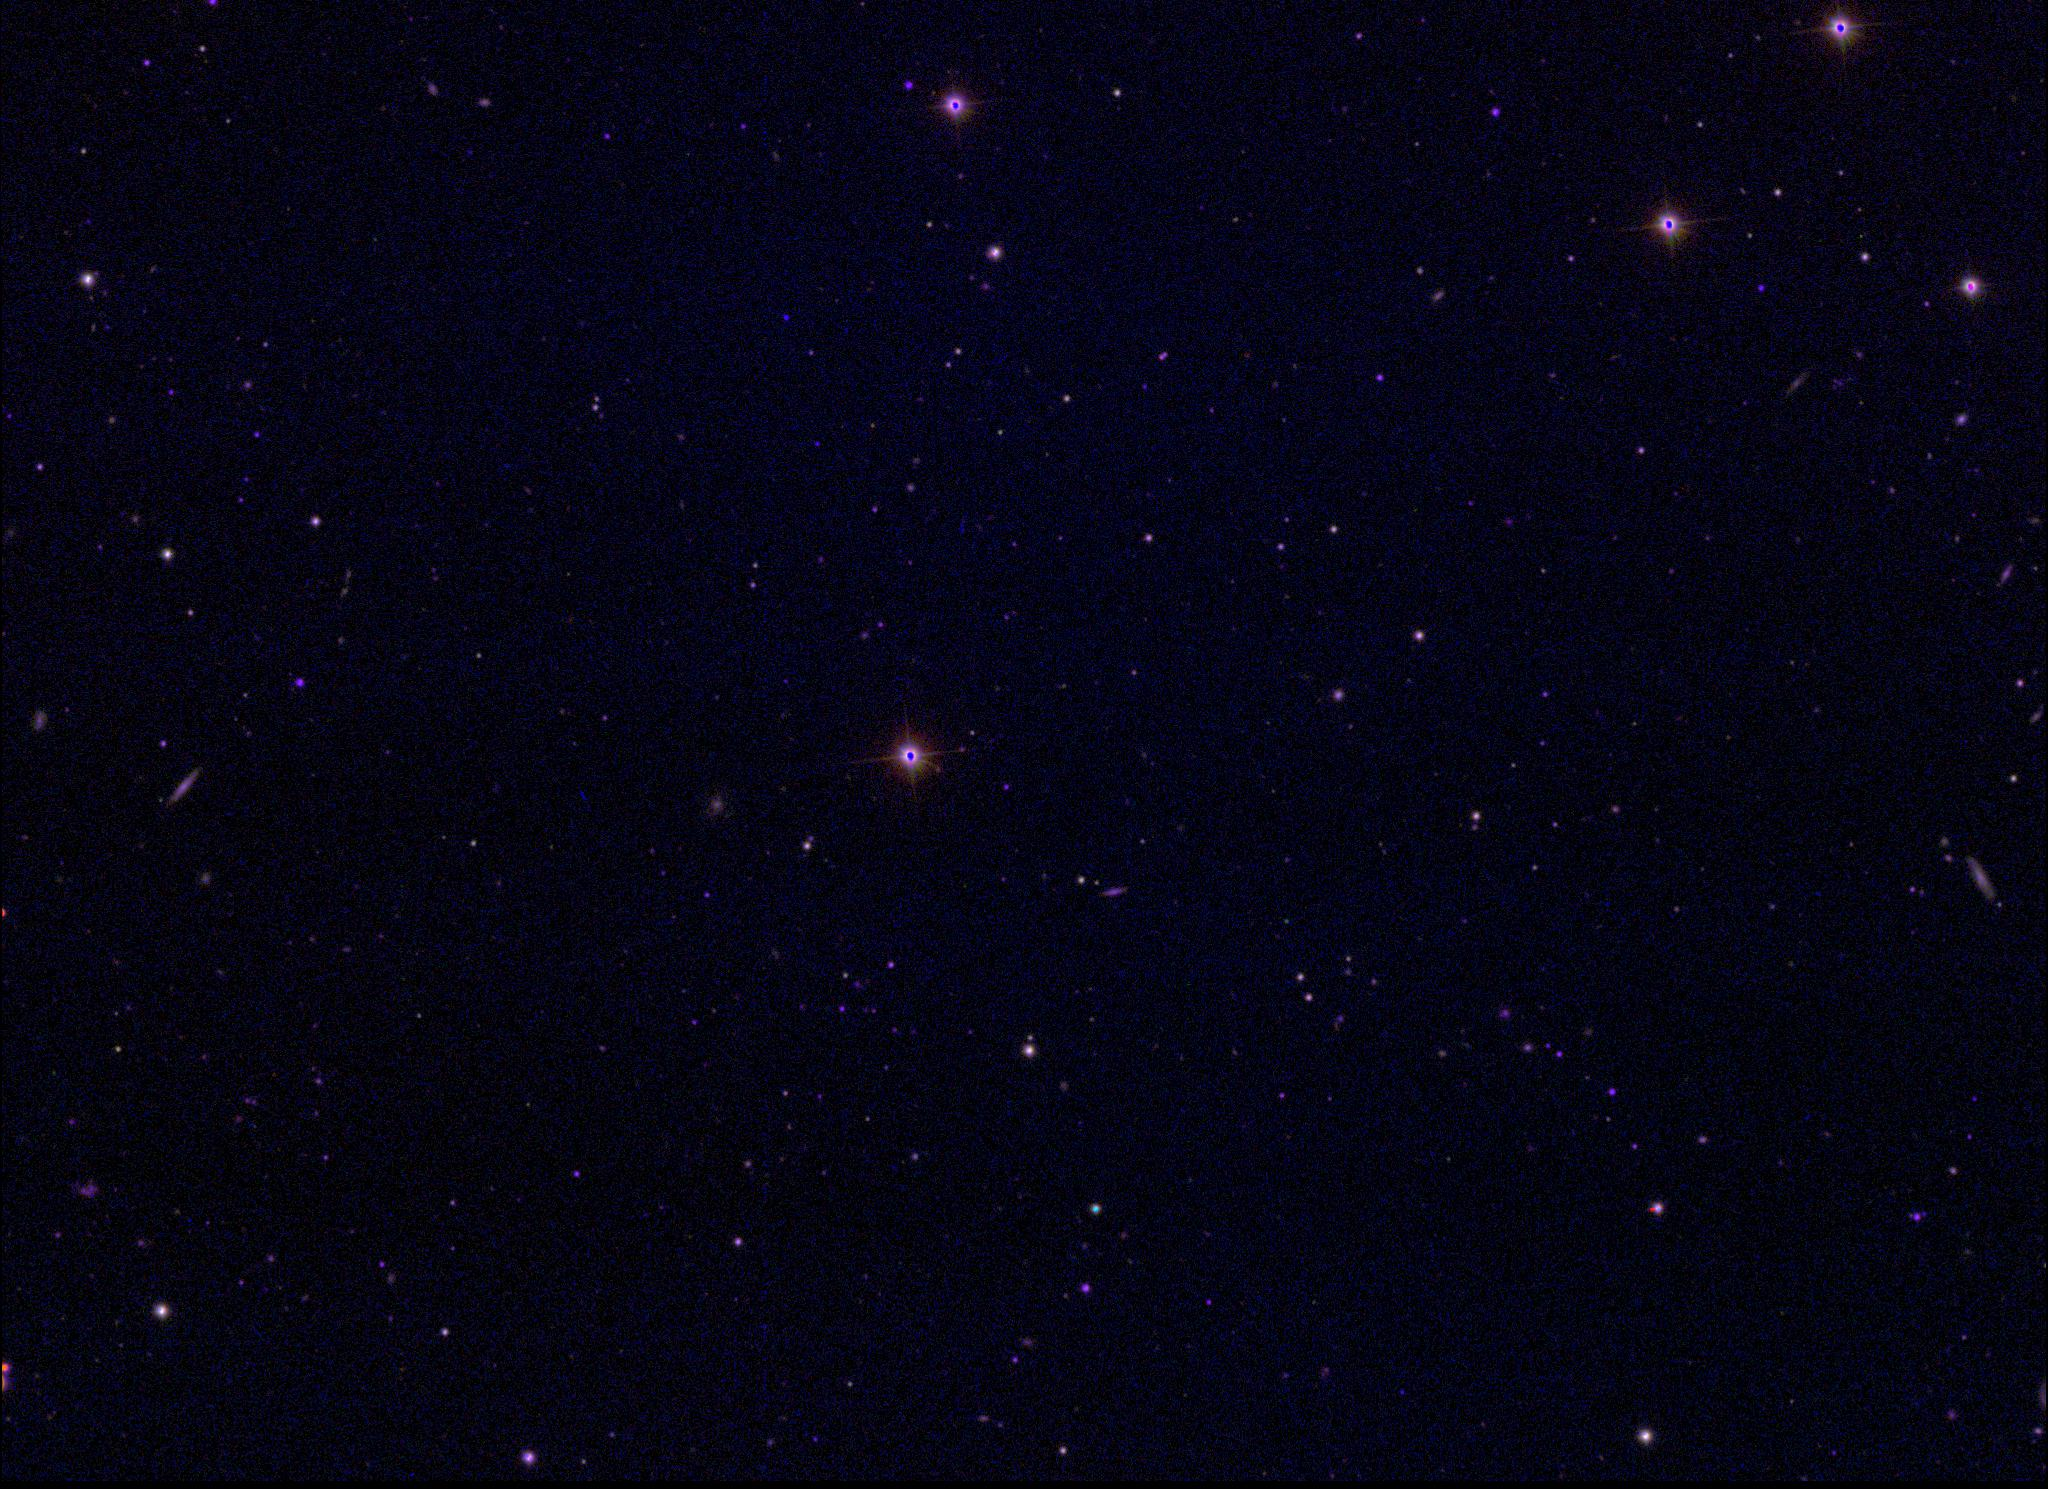L: (779, 310, 793, 325)
